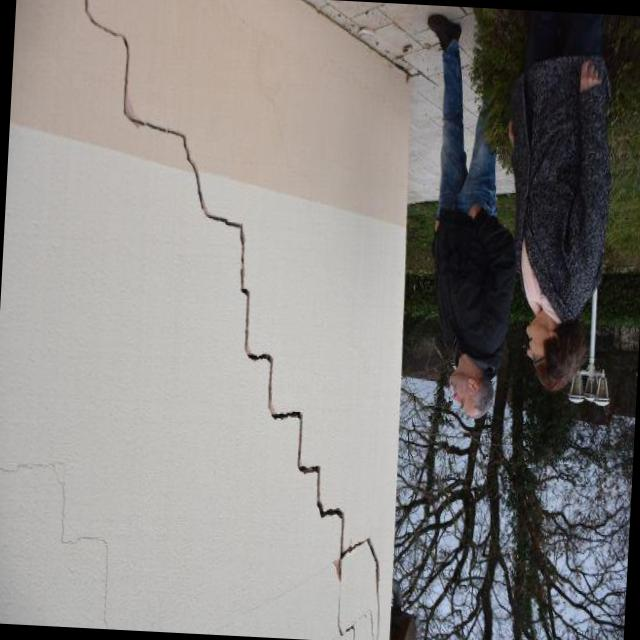crack: (84, 0, 382, 632)
